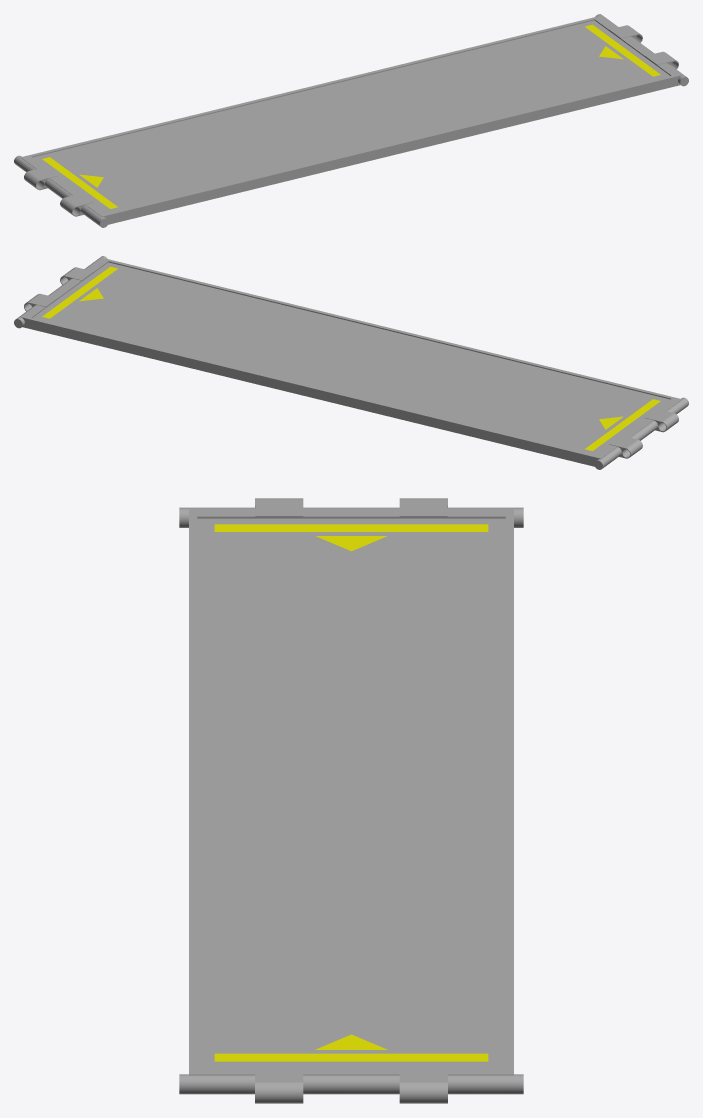
The model's file is GymRamp.fbx.
3 views of the same model, one above another, from view 1: azimuth 30°, elevation 25°; view 2: azimuth 150°, elevation 25°; view 3: azimuth 270°, elevation 25° (orthographic). The views are drawn at different scales.
Parts seen in each view (by area): view 1: GymRamp001; view 2: GymRamp001; view 3: GymRamp001.
Boxes of the visible parts, bbox=[...] form: GymRamp001: bbox=[14, 14, 688, 227]; GymRamp001: bbox=[14, 256, 688, 469]; GymRamp001: bbox=[179, 498, 523, 1103].
Bounding box in the file's own units: 496 × 7.95 × 122.
